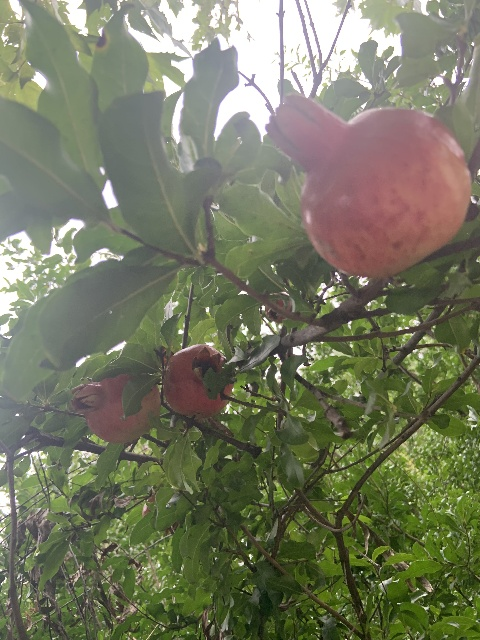ripe: (263, 94, 471, 277), (69, 373, 160, 442), (163, 344, 233, 417), (265, 292, 292, 323)
